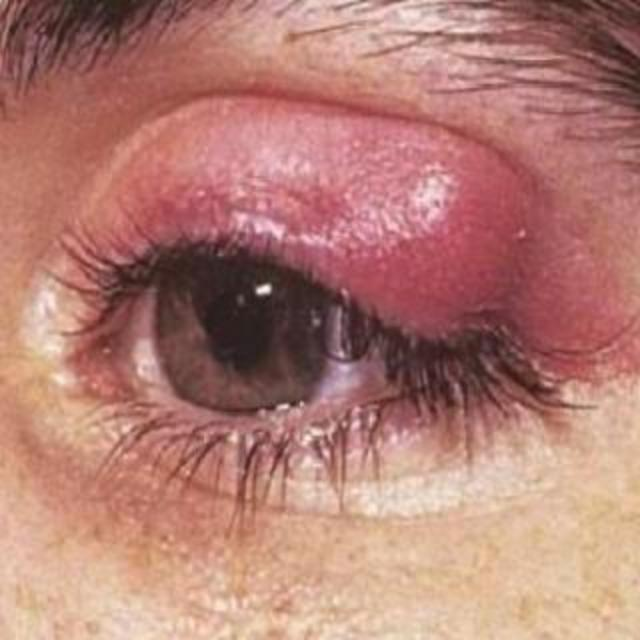Stye: (254, 106, 604, 394)
